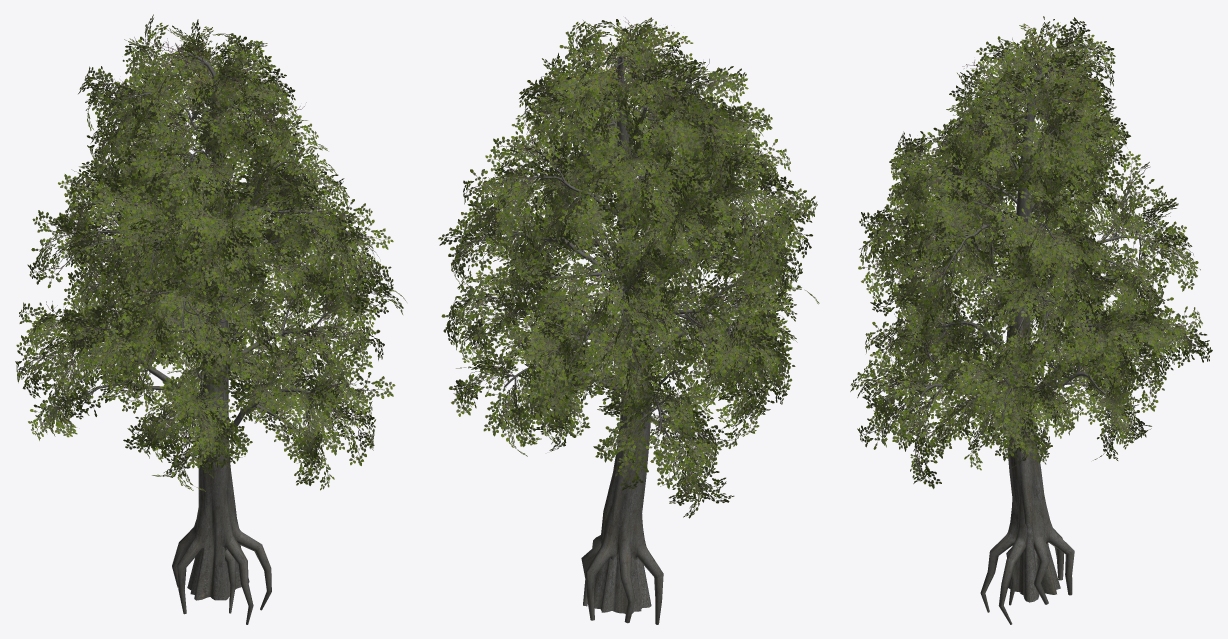
The model's file is tilleul-1.glb.
3 views of the same model, side by side, from view 1: azimuth 30°, elevation 25°; view 2: azimuth 150°, elevation 25°; view 3: azimuth 270°, elevation 25° (orthographic). The views are drawn at different scales.
Visible parts, largest first — view 1: Linden_LOD0; view 2: Linden_LOD0; view 3: Linden_LOD0.
Part boxes in pixels (<box>): Linden_LOD0: <box>15,14,406,624</box>; Linden_LOD0: <box>438,17,819,624</box>; Linden_LOD0: <box>850,16,1212,624</box>.
Size of the model in its own units: 10.12 by 18.04 by 10.4.
2 materials, 2 textured.
